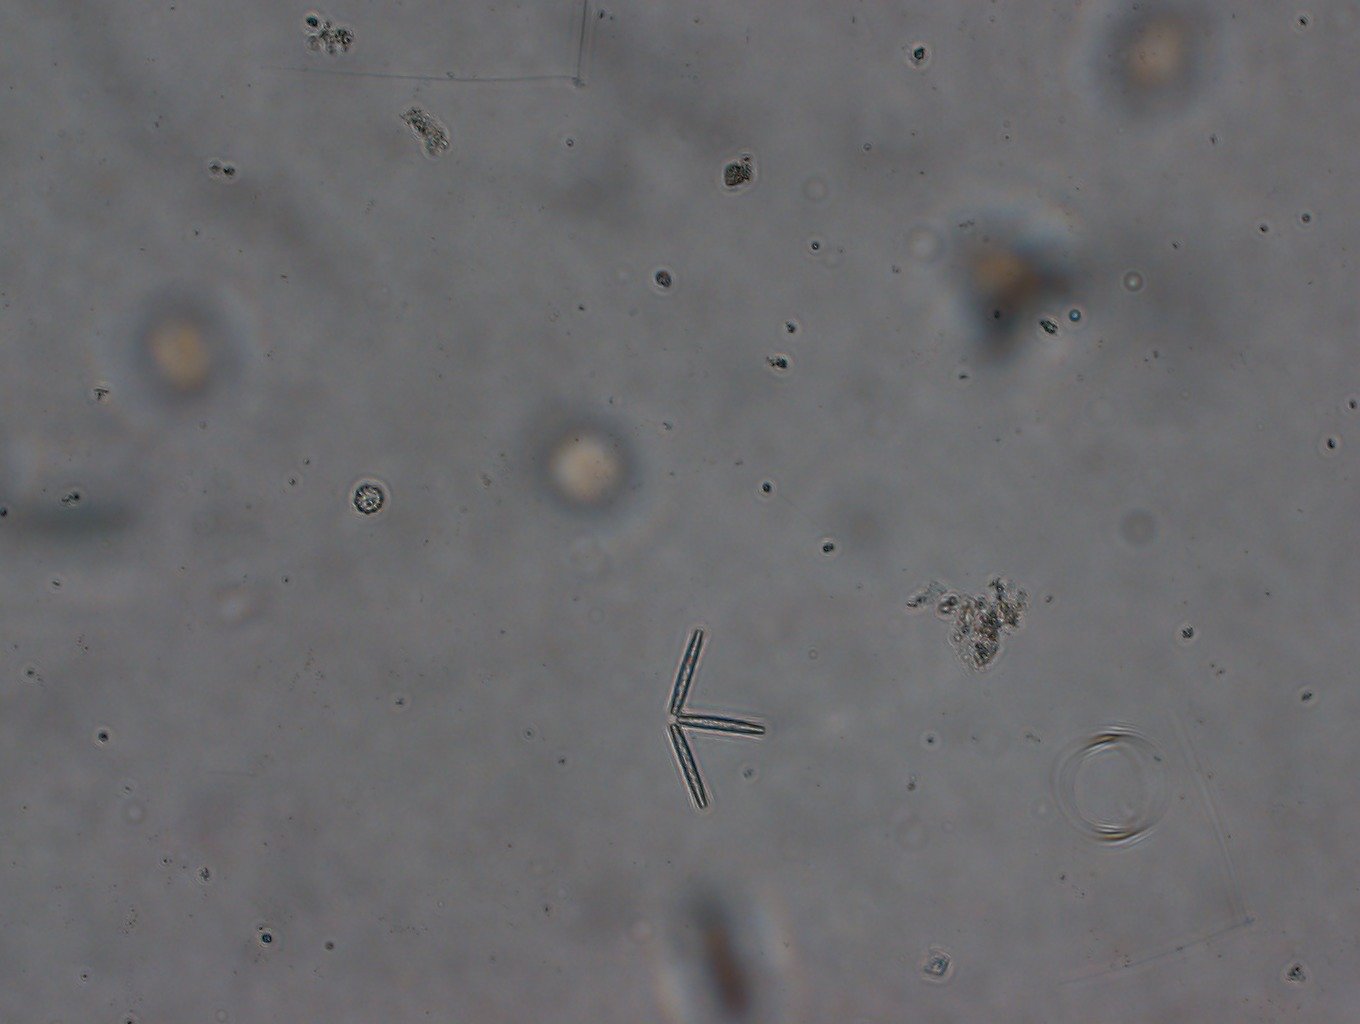thalassionema nitzschioides: (662, 625, 764, 810)
